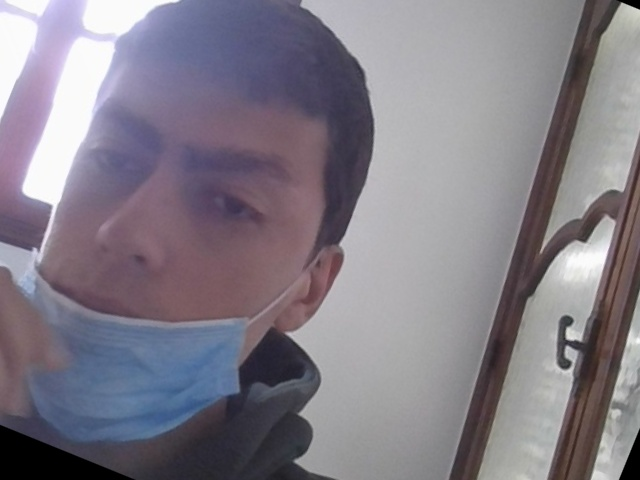mask_weared_incorrect: (14, 1, 340, 422)
